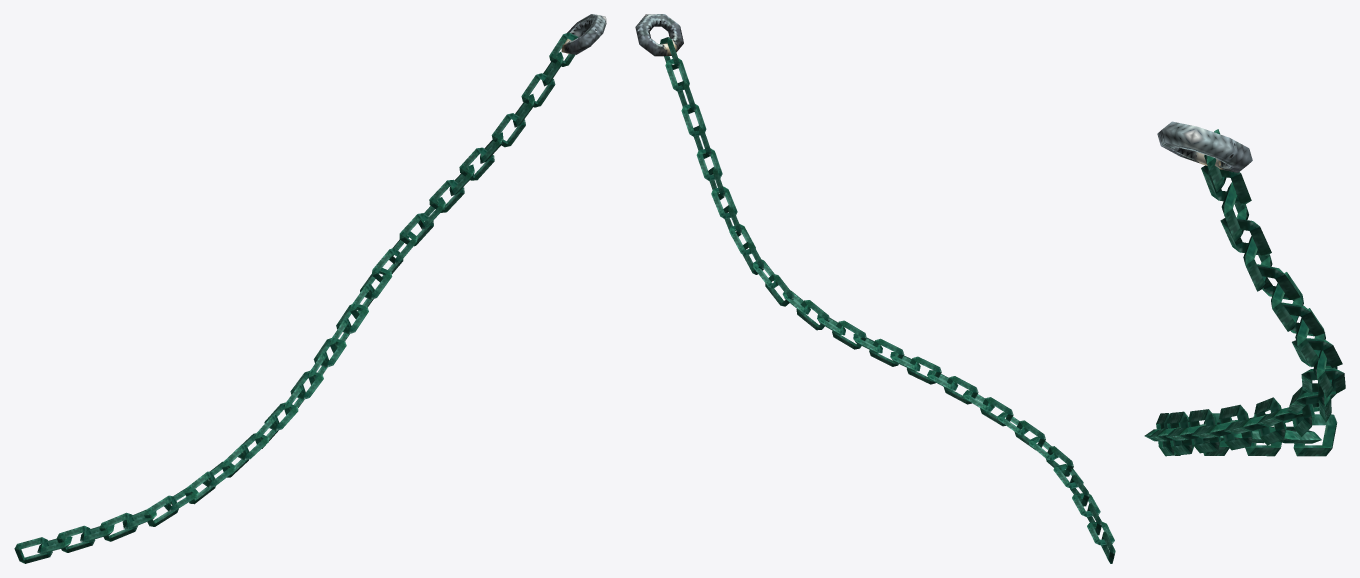
File: 5st_chain_006.fbx
The picture shows the model from 3 angles, left to right: view 1: azimuth 30°, elevation 25°; view 2: azimuth 150°, elevation 25°; view 3: azimuth 270°, elevation 25°; orthographic projection. The views are drawn at different scales.
Parts seen in each view (by area): view 1: chain006; view 2: chain006; view 3: chain006.
Boxes of the visible parts, x1,y1,x2,y2 form: chain006: (14,14,606,563); chain006: (635,14,1115,563); chain006: (1144,121,1345,456).
Size of the model in its own units: 19.95 by 15.27 by 3.44.
